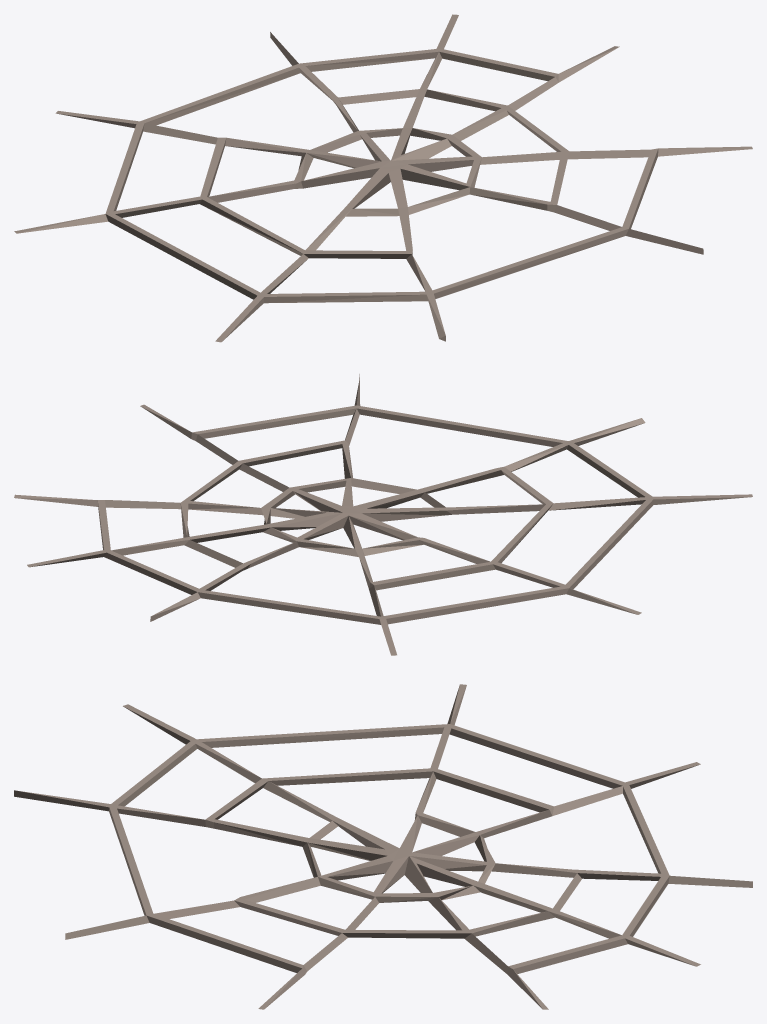
File: LPHorror_SpiderWebLarge.fbx
3 views of the same model, one above another, from view 1: azimuth 30°, elevation 25°; view 2: azimuth 150°, elevation 25°; view 3: azimuth 270°, elevation 25° (orthographic). The views are drawn at different scales.
Parts seen in each view (by area): view 1: SpiderWebLarge; view 2: SpiderWebLarge; view 3: SpiderWebLarge.
Part boxes in pixels (x1,y1,x2,y2): SpiderWebLarge: [14, 14, 752, 342]; SpiderWebLarge: [14, 374, 752, 655]; SpiderWebLarge: [14, 684, 752, 1009].
Size of the model in its own units: 207 by 3.58 by 198.
